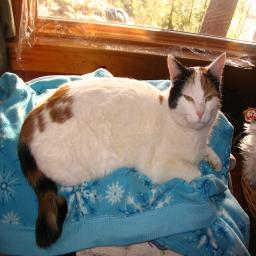catnose: (196, 108, 205, 120)
